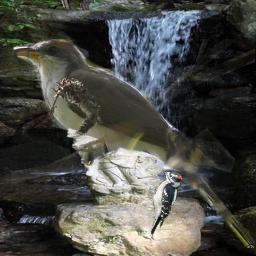Cuckoo: (11, 39, 255, 248)
Woodpecker: (148, 169, 183, 237)
